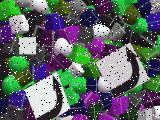Left: (96, 43, 150, 99), (24, 72, 70, 120)
